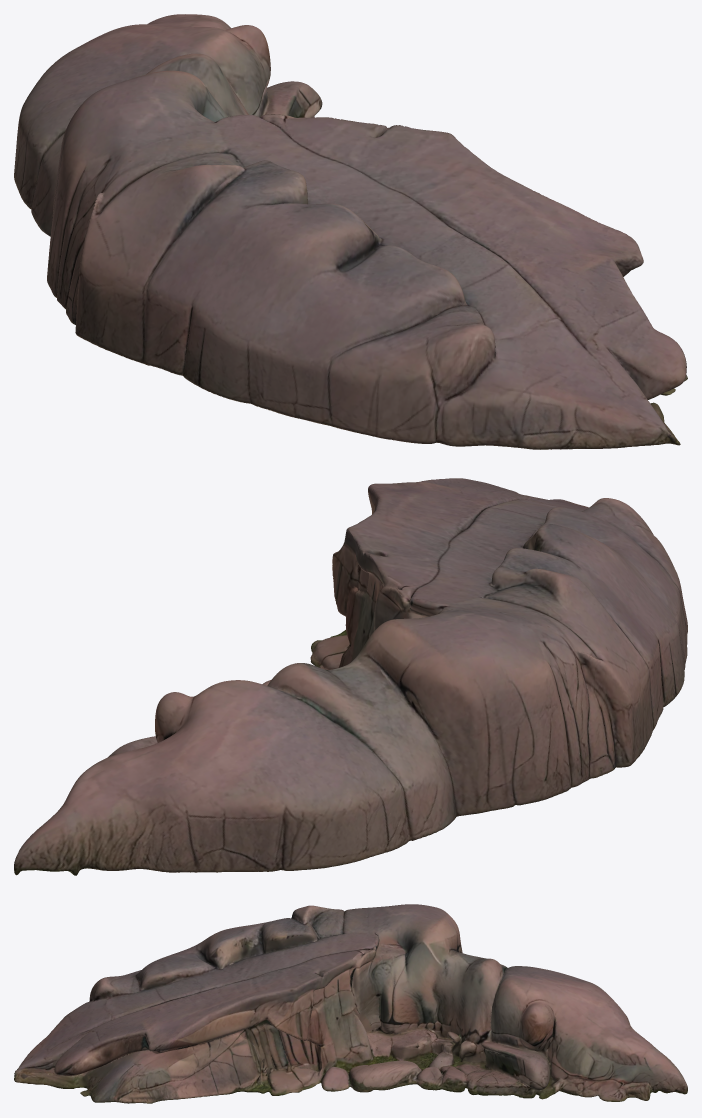
The model's file is bory-tastagan.glb.
The picture shows the model from 3 angles, top to bottom: view 1: azimuth 30°, elevation 25°; view 2: azimuth 150°, elevation 25°; view 3: azimuth 270°, elevation 25°; orthographic projection. The views are drawn at different scales.
Parts seen in each view (by area): view 1: tripo_node_b15e86c6-a0f5-4df7-b181-b5a6aa50b244; view 2: tripo_node_b15e86c6-a0f5-4df7-b181-b5a6aa50b244; view 3: tripo_node_b15e86c6-a0f5-4df7-b181-b5a6aa50b244.
Boxes of the visible parts, left/top/right/bottom form: tripo_node_b15e86c6-a0f5-4df7-b181-b5a6aa50b244: left=14, top=14, right=687, bottom=449; tripo_node_b15e86c6-a0f5-4df7-b181-b5a6aa50b244: left=14, top=478, right=687, bottom=875; tripo_node_b15e86c6-a0f5-4df7-b181-b5a6aa50b244: left=14, top=904, right=687, bottom=1103.
Size of the model in its own units: 0.4482 by 0.1763 by 1.
Materials: 1 (1 with a texture image).
